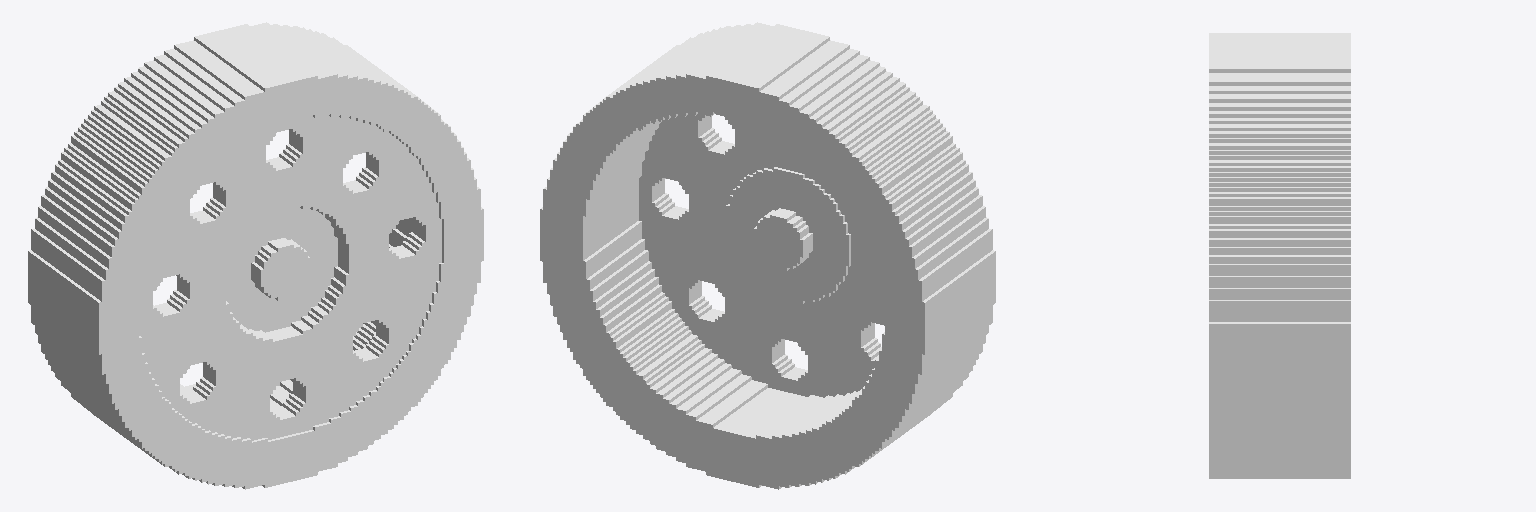
File: Goma.obj
3 renders of one model, left to right at view 1: azimuth 30°, elevation 25°; view 2: azimuth 150°, elevation 25°; view 3: azimuth 270°, elevation 25°, orthographic.
Visible parts, largest first — view 1: object 1; view 2: object 1; view 3: object 1.
Part boxes in pixels (left/top/right/bottom): object 1: left=28, top=22, right=483, bottom=489; object 1: left=540, top=22, right=995, bottom=489; object 1: left=1209, top=33, right=1350, bottom=478.
Size of the model in its own units: 11.6 by 11.5 by 3.7.